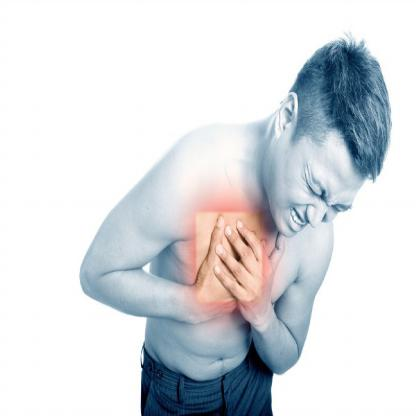pain: (302, 166, 353, 224)
